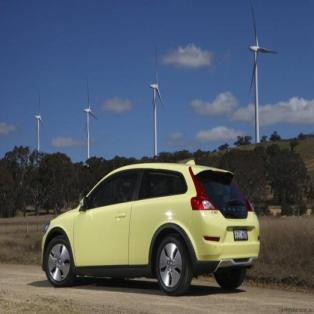Auto: (38, 153, 262, 299)
